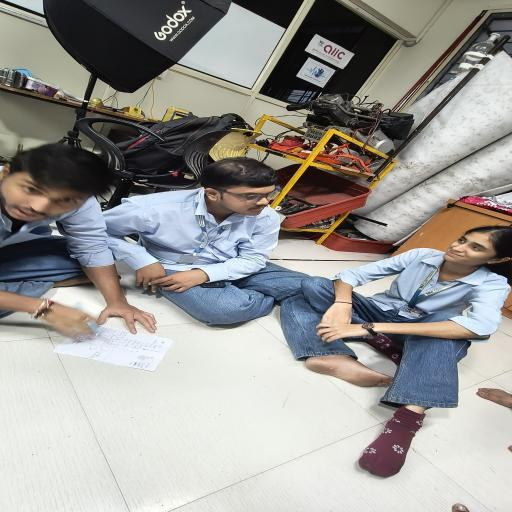survivor: (279, 224, 512, 478), (100, 156, 318, 328), (0, 142, 159, 340)
